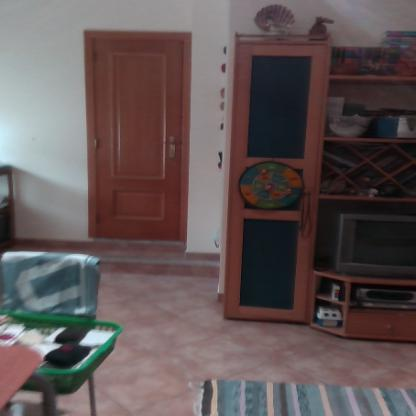door: (93, 35, 188, 242)
hinged: (92, 50, 98, 62), (93, 138, 98, 150), (95, 211, 99, 223)
lever: (157, 140, 178, 146)
